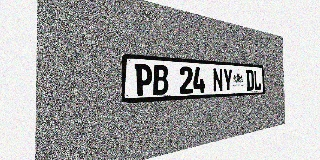2: (180, 66, 193, 94)
4: (193, 67, 205, 93)
B: (153, 65, 168, 95)
D: (246, 70, 254, 91)
L: (254, 70, 261, 90)
N: (213, 68, 223, 92)
P: (135, 64, 152, 96)
Y: (223, 68, 233, 92)
